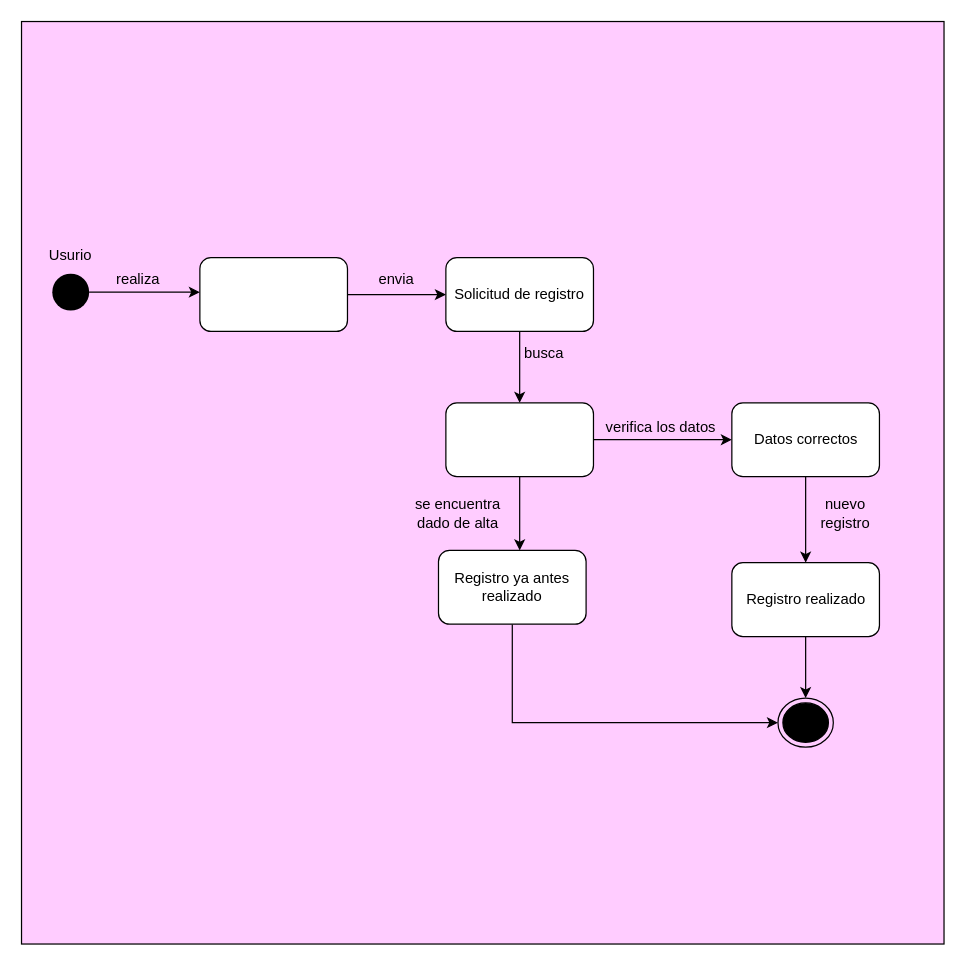
This 966x966 diagram has some shape labels left out. Here are the shapes that lost their labels. From the top down, the centre of each, then its label:
point 273,293: Registro
point 519,439: registro existente
